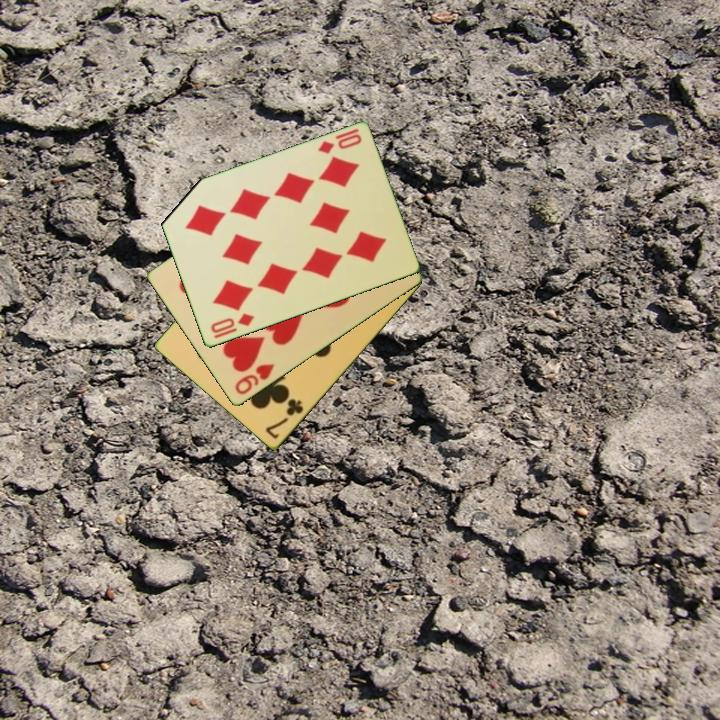10d: (207, 310, 257, 342), (314, 131, 364, 157)
7c: (262, 395, 306, 442)
9h: (231, 360, 277, 398)
